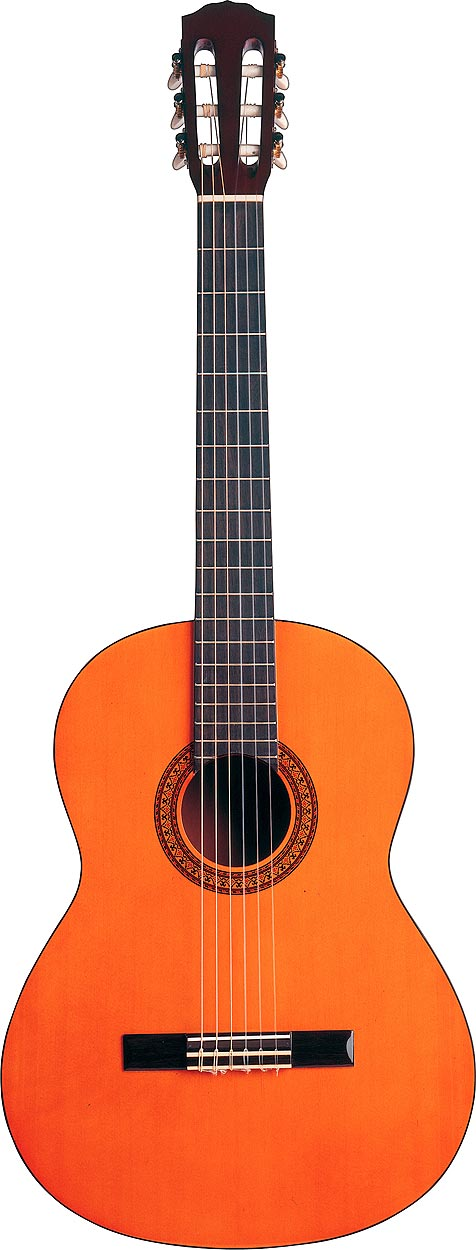guitar: (1, 1, 476, 1250)
